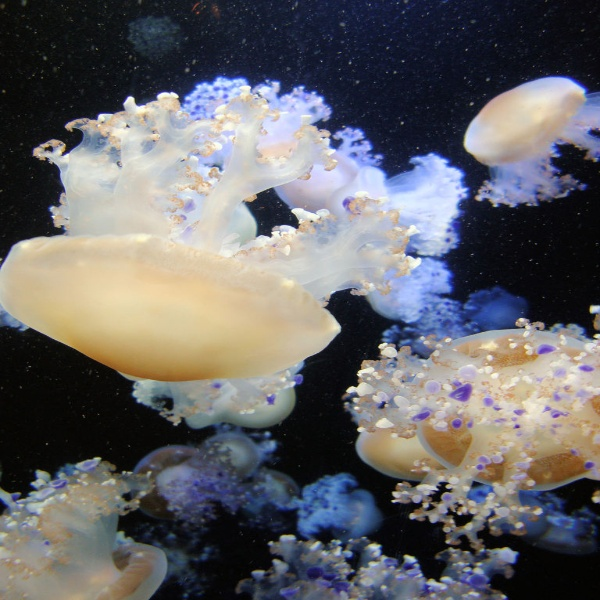Jellyfish: (0, 82, 423, 381), (345, 322, 599, 502), (0, 459, 179, 599), (458, 78, 599, 206)
